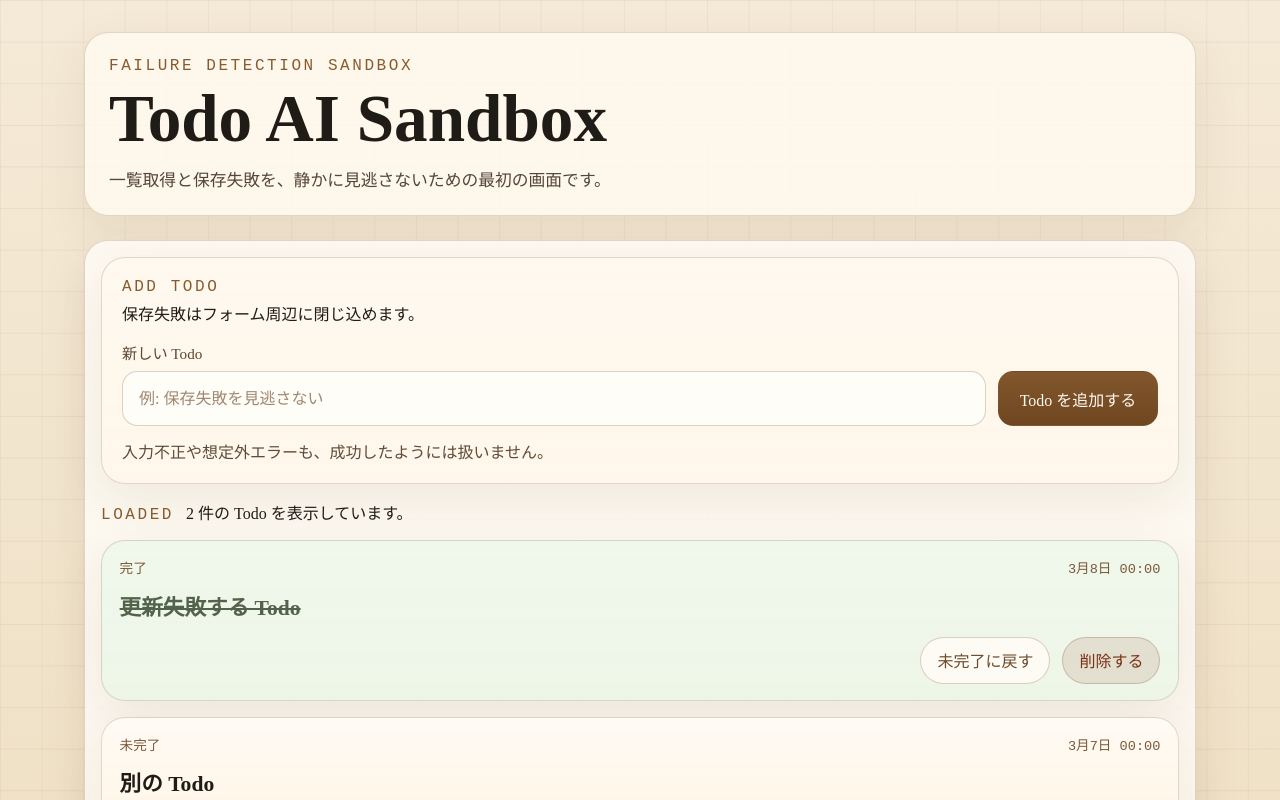
it: App › 完了切り替えが 5xx で失敗したときも対象行だけに失敗表示を出す
Expected: the heading "更新失敗する Todo" is shown, [120,596,301,620]
Click the button "未完了に戻す" at (985, 660), box [920,637,1050,684]
(page scrolled)
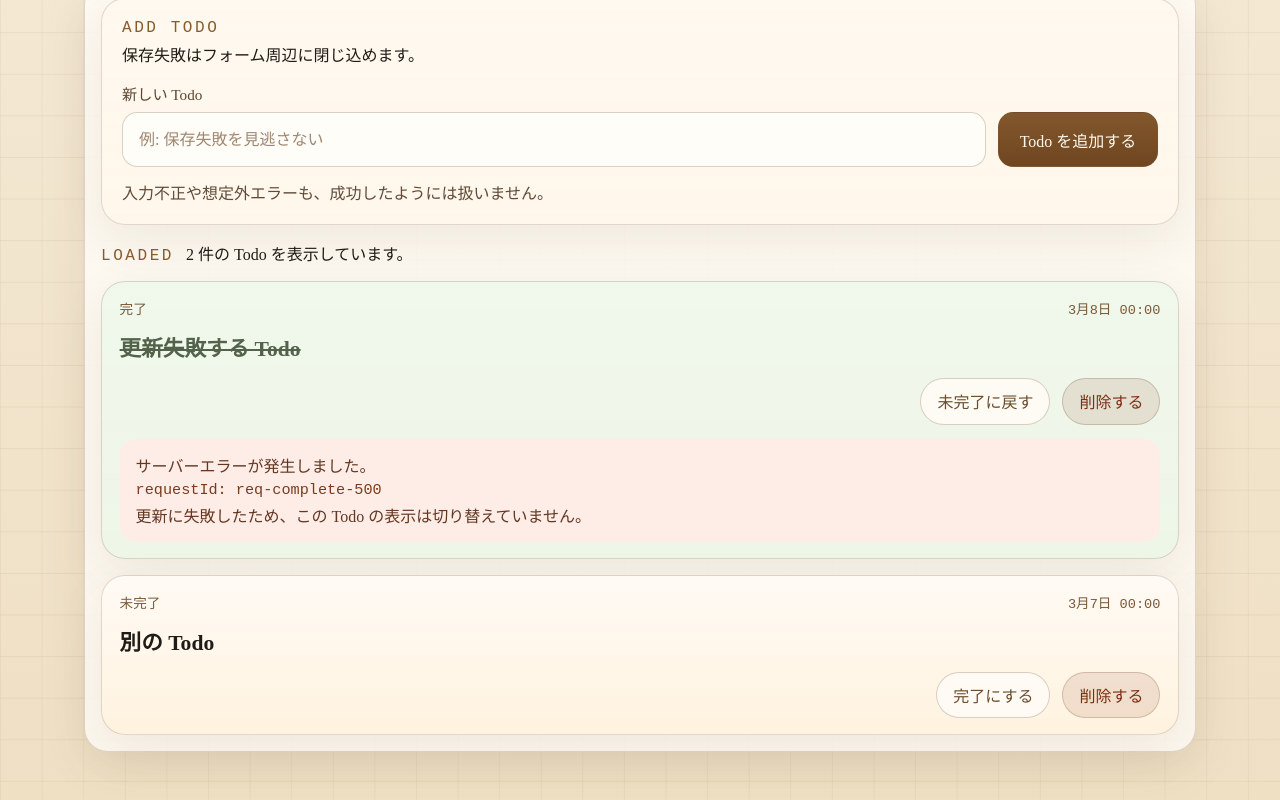
Expected: the text "完了" is shown, [120,298,147,318]
Result: the text "サーバーエラーが発生しました。" is shown at [136,458,375,475]
Result: the text "requestId: req-complete-500" is shown at [136,481,382,499]
